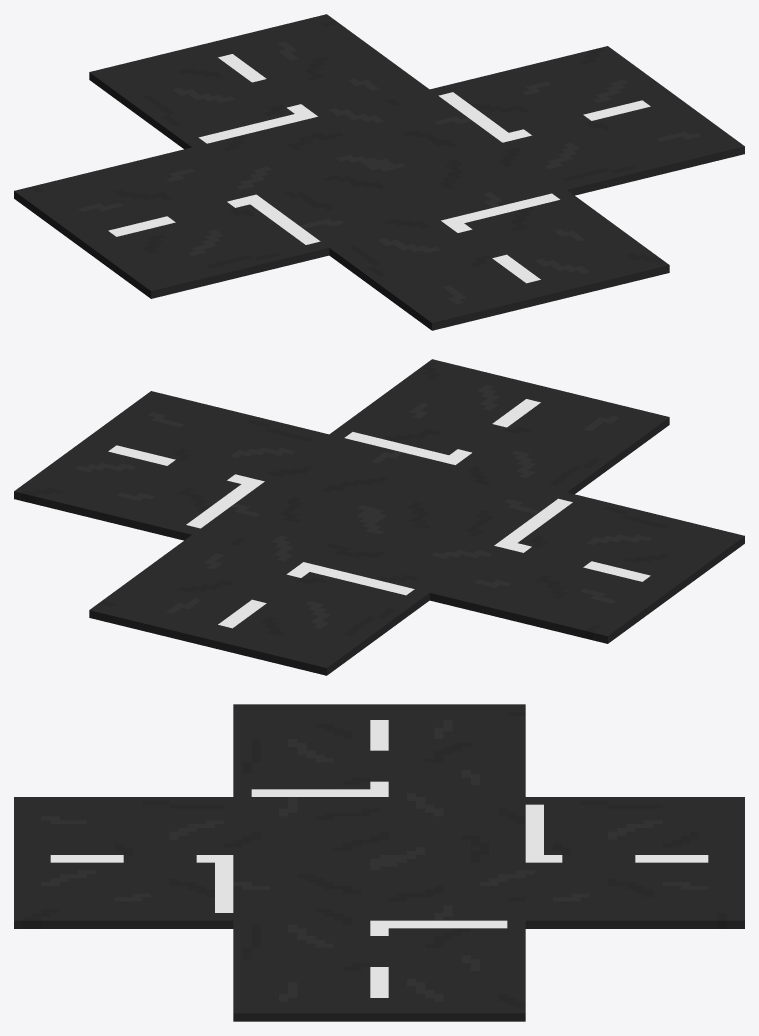
File: crossing.gltf
The picture shows the model from 3 angles, top to bottom: view 1: azimuth 30°, elevation 25°; view 2: azimuth 150°, elevation 25°; view 3: azimuth 270°, elevation 25°; orthographic projection. The views are drawn at different scales.
Visible parts, largest first — view 1: Layer.2; view 2: Layer.2; view 3: Layer.2.
Boxes of the visible parts, left/top/right/bottom form: Layer.2: left=14, top=14, right=744, bottom=330; Layer.2: left=14, top=359, right=744, bottom=675; Layer.2: left=14, top=704, right=744, bottom=1021.
Size of the model in its own units: 80 by 1 by 80.
1 material, 1 textured.
